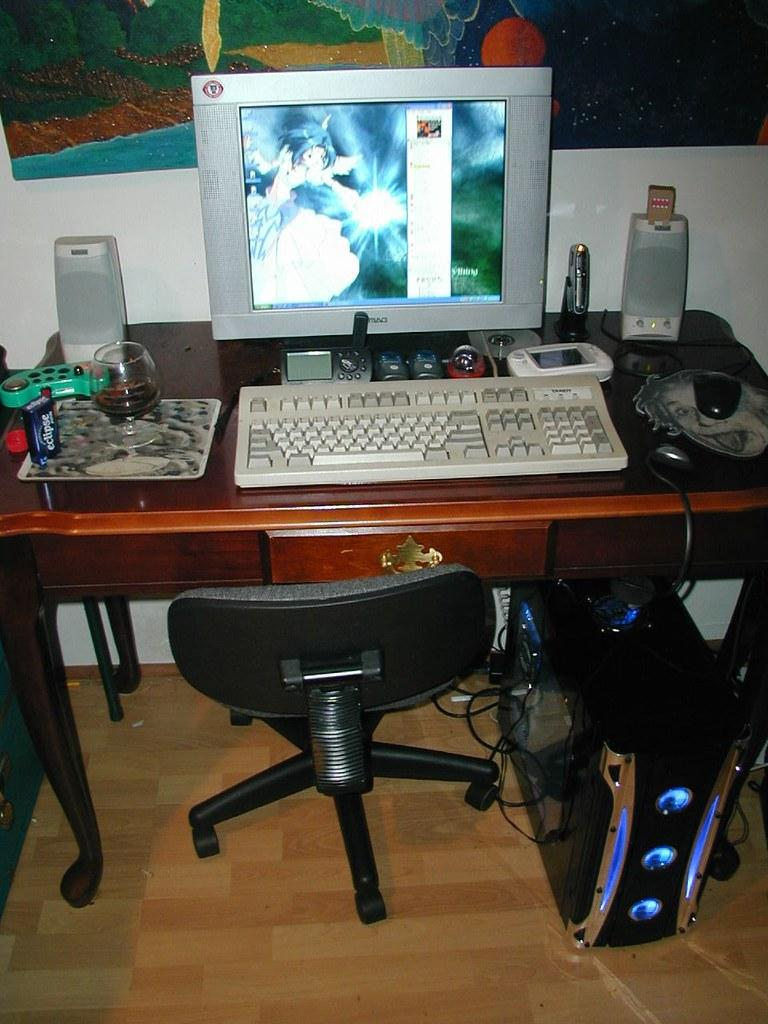computer: (191, 65, 554, 367), (499, 577, 756, 949)
